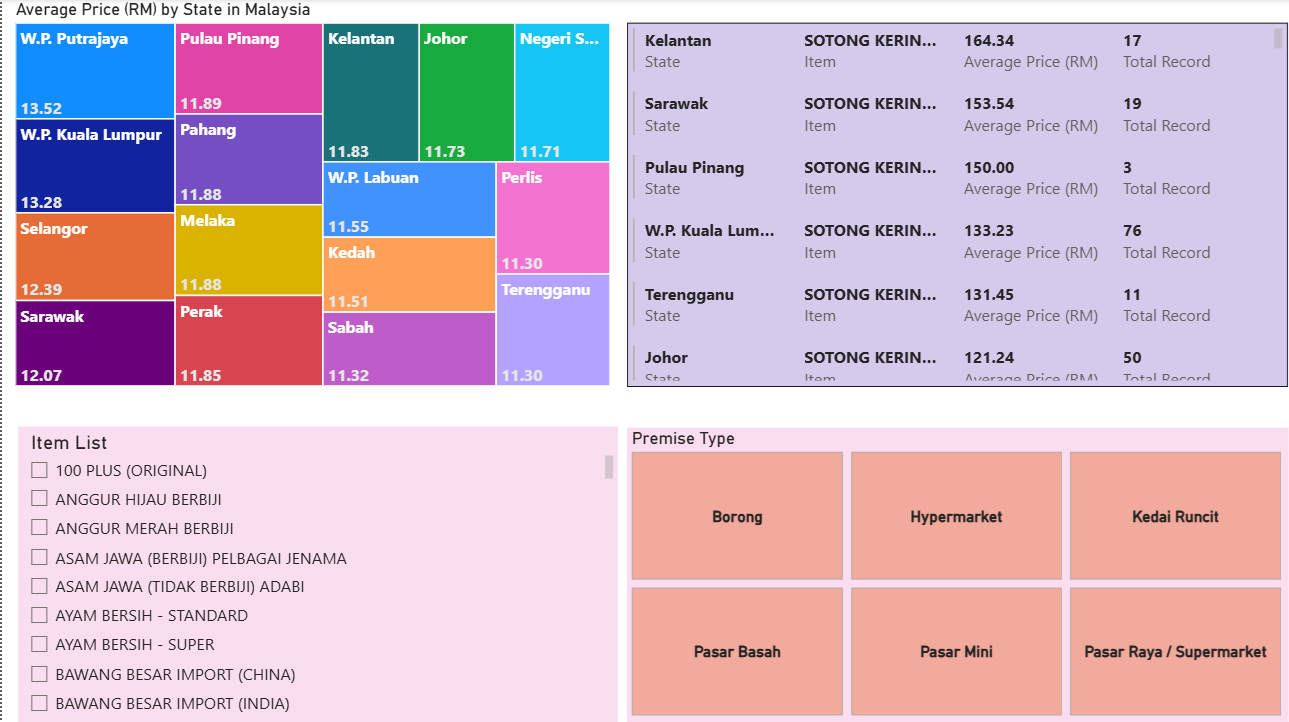

The page's visual inventory and layout, read from the dashboard file:
{"tool":"powerbi","page":{"name":"Page 1","canvas":[1280,720],"ordinal":0},"visuals":[{"type":"treemap","title":"Average Price (RM) by State in Malaysia","fields":{"Group":["master_price_catcher.lookup_premise.state"],"Values":["Avg(master_price_catcher.price)"]},"box":[9.3,0,601.6,390.3],"z":0},{"type":"multiRowCard","fields":{"Values":["master_price_catcher.lookup_premise.state","master_price_catcher.lookup_item.item","Avg(master_price_catcher.price)","master_price_catcher.item_code"]},"box":[622.4,23.3,657.8,362.3],"z":1000},{"type":"slicer","fields":{"Values":["master_price_catcher.lookup_item.item"]},"box":[16.5,425.9,596.9,294.5],"z":2000},{"type":"advancedSlicerVisual","fields":{"Values":["master_price_catcher.lookup_premise.premise_type"]},"box":[622.1,426.3,658.2,293],"z":3000}]}

Visuals, with their boxes in screenshot pixels (x1, y1, x2, y2), scaled from the page's 1280x720 canvas onto the 1289x722 screenshot:
"Average Price (RM) by State in Malaysia" treemap: (9,0,615,391)
multiRowCard - master_price_catcher.lookup_premise.state x master_price_catcher.lookup_item.item: (627,23,1288,387)
slicer - master_price_catcher.lookup_item.item: (17,427,618,721)
advancedSlicerVisual - master_price_catcher.lookup_premise.premise_type: (626,427,1288,721)
